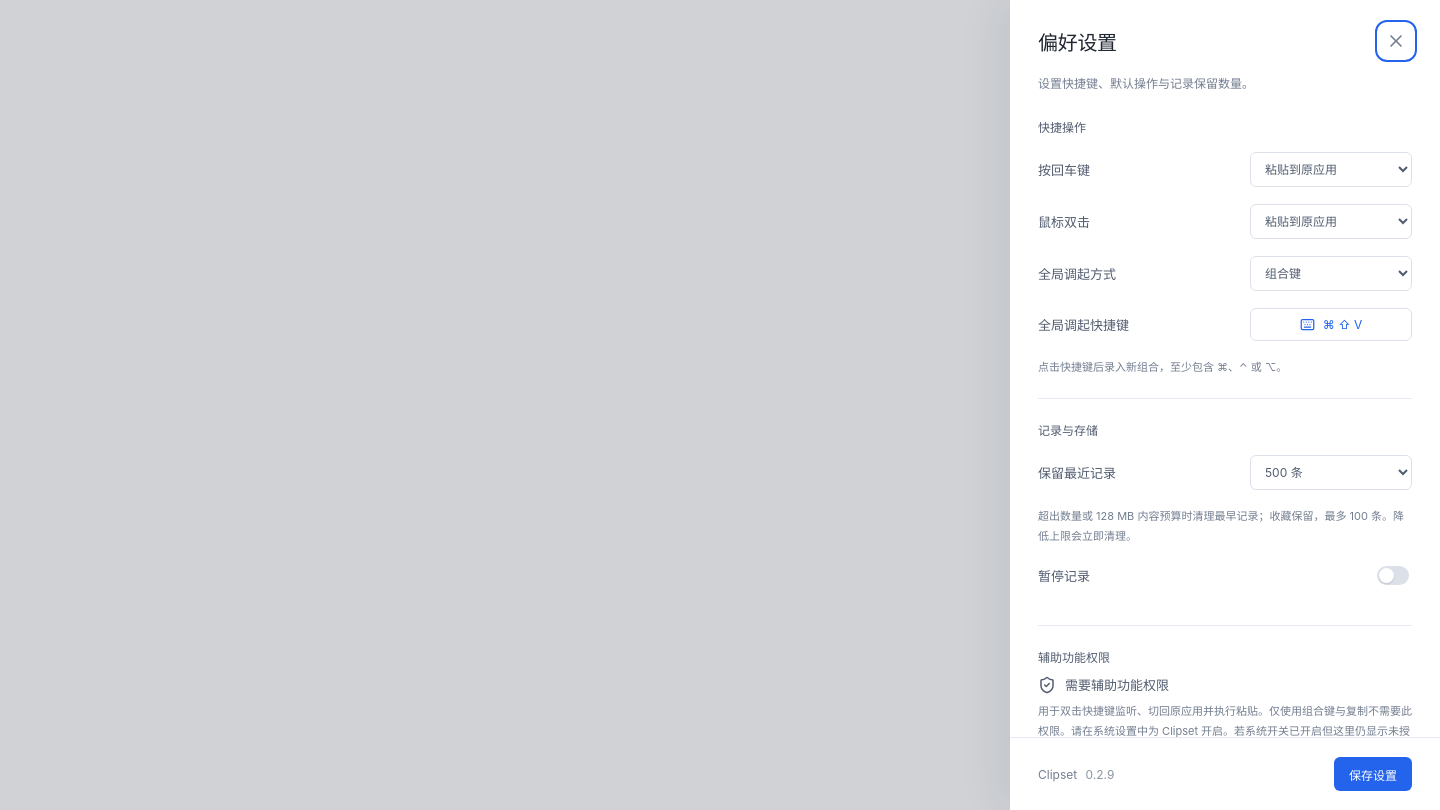
Scenario: settings save feedback › shows a rejected save beside the footer without losing the draft
Click the button "保存设置". click: (1373, 774)
box: [1334,757,1412,791]
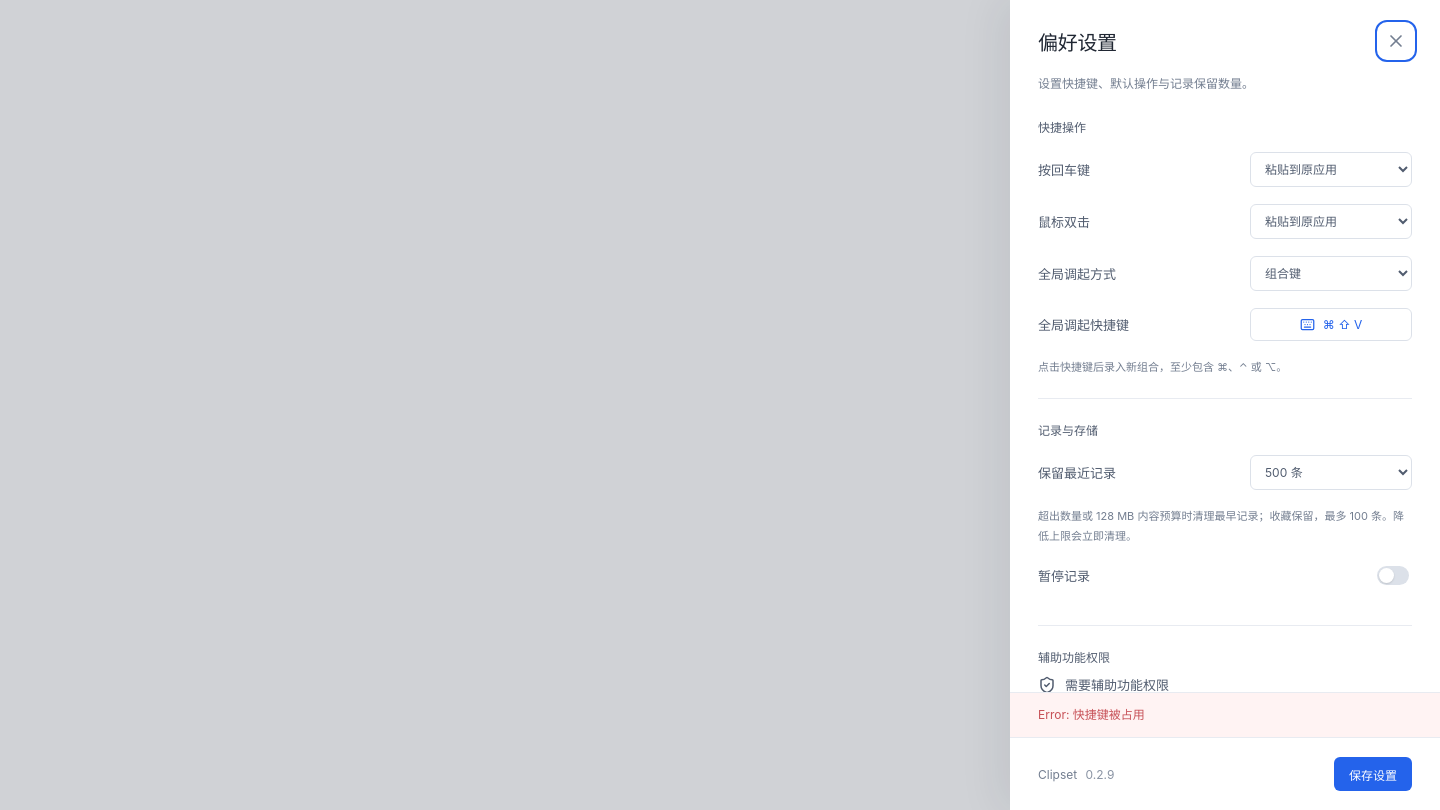
Now the message shows "快捷键被占用", box [1038,707,1145,722]
